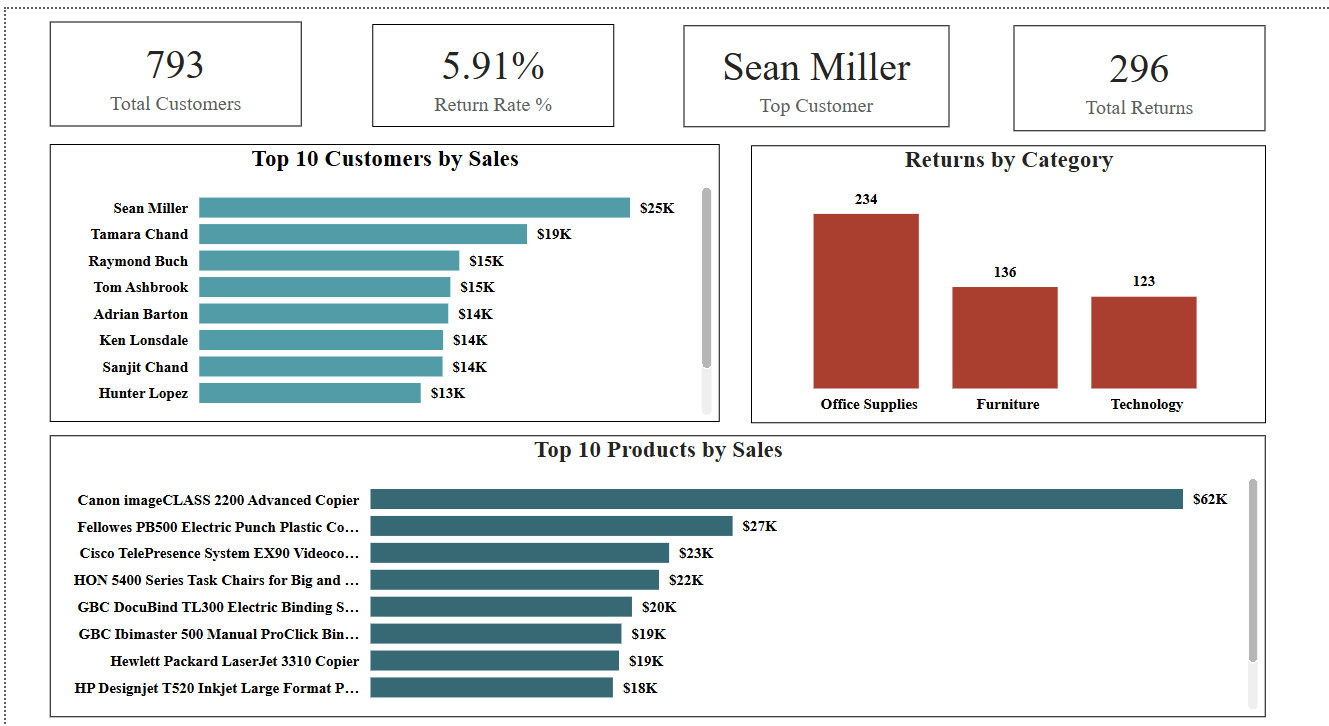

This screenshot's page, from the dashboard's own definition file:
{"tool":"powerbi","page":{"name":" Customer & Returns","canvas":[1280,720],"ordinal":2},"visuals":[{"type":"card","fields":{"Values":["All Measures.Total Customers"]},"box":[35,10,202,84],"z":0},{"type":"card","fields":{"Values":["All Measures.Return Rate %"]},"box":[293,12,194,83],"z":1000},{"type":"barChart","title":"Top 10 Customers by Sales","fields":{"Category":["Orders.Customer Name"],"Y":["All Measures.Total Sales"]},"box":[35,108,536,223],"z":2000},{"type":"barChart","title":"Top 10 Products by Sales","fields":{"Category":["Orders.Product Name"],"Y":["All Measures.Total Sales"]},"box":[35,341,973,226],"z":3000},{"type":"columnChart","title":"Returns by Category","fields":{"Category":["Orders.Category"],"Y":["All Measures.Returns by Cat"]},"box":[596,109,412,223],"z":4000},{"type":"card","fields":{"Values":["All Measures.Top Customer Name"]},"box":[542,13,213,82],"z":5000},{"type":"card","fields":{"Values":["All Measures.Total Return"]},"box":[806,13,202,85],"z":6000}]}

Visuals, with their boxes in screenshot pixels (x1, y1, x2, y2), scaled from the page's 1280x720 canvas onto the 1329x726 screenshot:
card - All Measures.Total Customers: (left=36, top=10, right=246, bottom=95)
card - All Measures.Return Rate %: (left=304, top=12, right=506, bottom=96)
"Top 10 Customers by Sales" barChart: (left=36, top=109, right=593, bottom=334)
"Top 10 Products by Sales" barChart: (left=36, top=344, right=1047, bottom=572)
"Returns by Category" columnChart: (left=619, top=110, right=1047, bottom=335)
card - All Measures.Top Customer Name: (left=563, top=13, right=784, bottom=96)
card - All Measures.Total Return: (left=837, top=13, right=1047, bottom=99)
